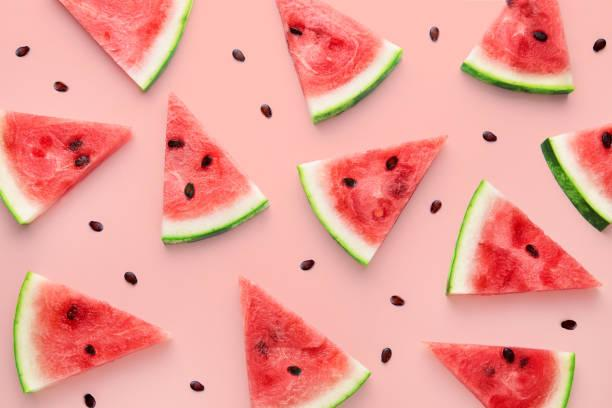watermelon: (452, 170, 603, 324), (8, 261, 174, 398), (230, 268, 384, 408), (292, 133, 450, 265), (160, 92, 271, 254), (2, 103, 134, 234), (272, 0, 406, 124), (60, 0, 197, 91), (423, 332, 581, 408), (463, 0, 574, 106), (537, 120, 612, 235)
